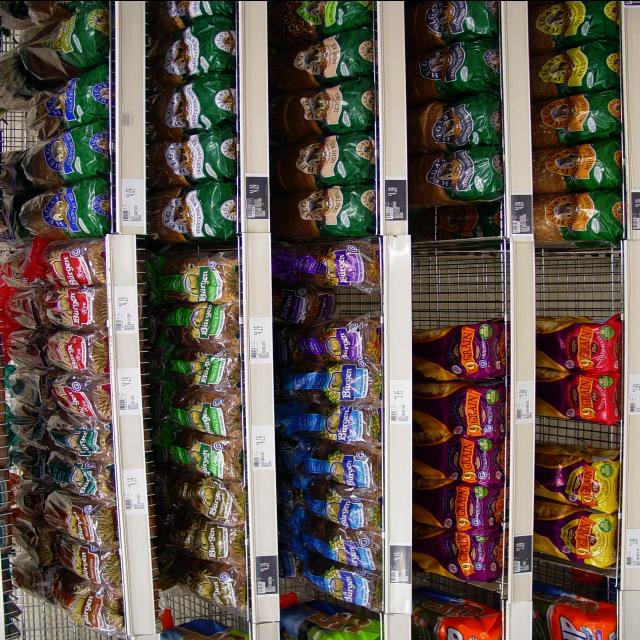empty_space: (411, 236, 496, 310), (545, 254, 631, 309), (545, 419, 619, 453), (164, 605, 245, 631), (542, 576, 614, 600), (420, 583, 490, 605)
